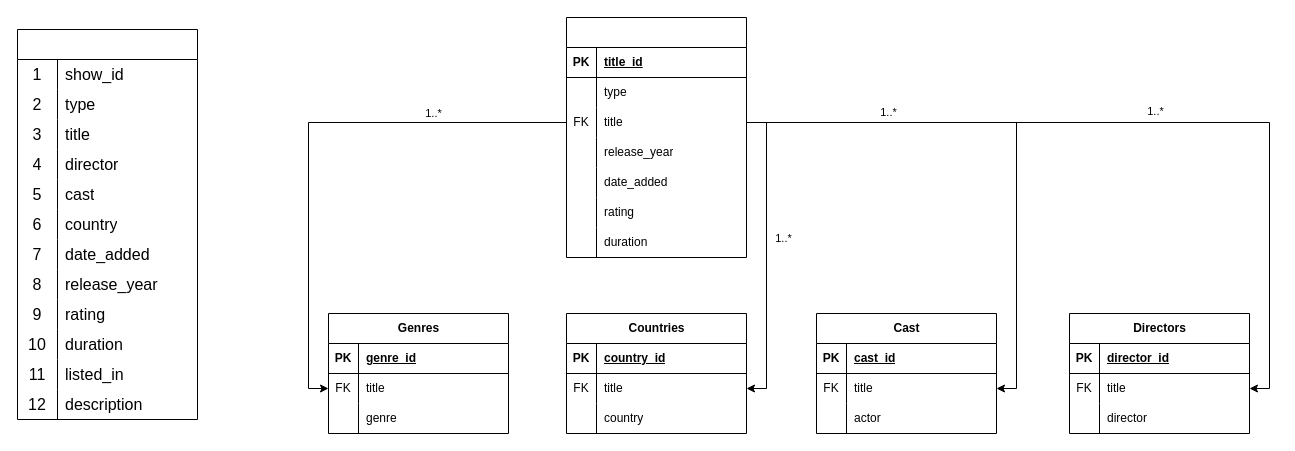
The diagram is 1295 pixels wide and 451 high, and some of its shapes have lost their labels. The shapes that lost their labels are listed below. From the top down, each one's box as (x1, y1, x2, y2) in pixels, then its label:
(566, 16, 746, 258): Titles
(16, 28, 198, 420): Attributes
